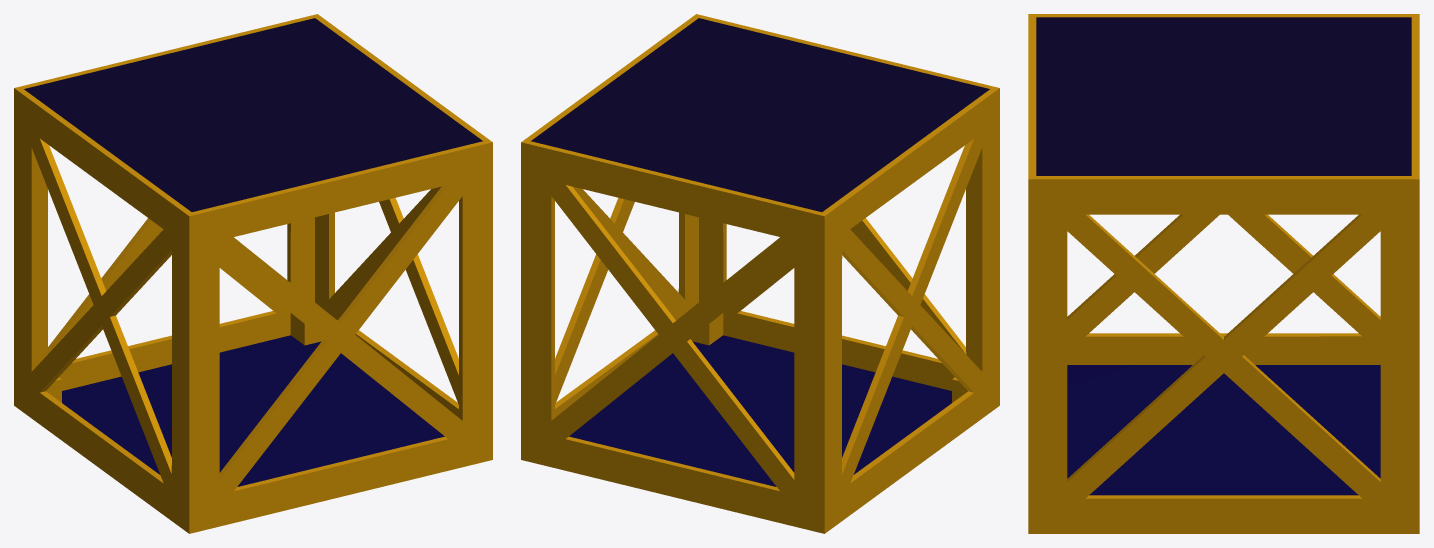
File: frame.glb
The picture shows the model from 3 angles, left to right: view 1: azimuth 30°, elevation 25°; view 2: azimuth 150°, elevation 25°; view 3: azimuth 270°, elevation 25°; orthographic projection. The views are drawn at different scales.
Parts seen in each view (by area): view 1: side Frames, top, Bottom; view 2: side Frames, top, Bottom; view 3: side Frames, top, Bottom.
Part boxes in pixels (left/top/right/bottom): side Frames: left=14, top=14, right=492, bottom=533; top: left=24, top=18, right=482, bottom=211; Bottom: left=62, top=335, right=444, bottom=486; side Frames: left=521, top=14, right=999, bottom=533; top: left=531, top=18, right=989, bottom=211; Bottom: left=569, top=335, right=951, bottom=486; side Frames: left=1028, top=14, right=1419, bottom=533; top: left=1036, top=17, right=1411, bottom=175; Bottom: left=1067, top=365, right=1380, bottom=495.
Bounding box in the file's own units: 152 × 152 × 152.
